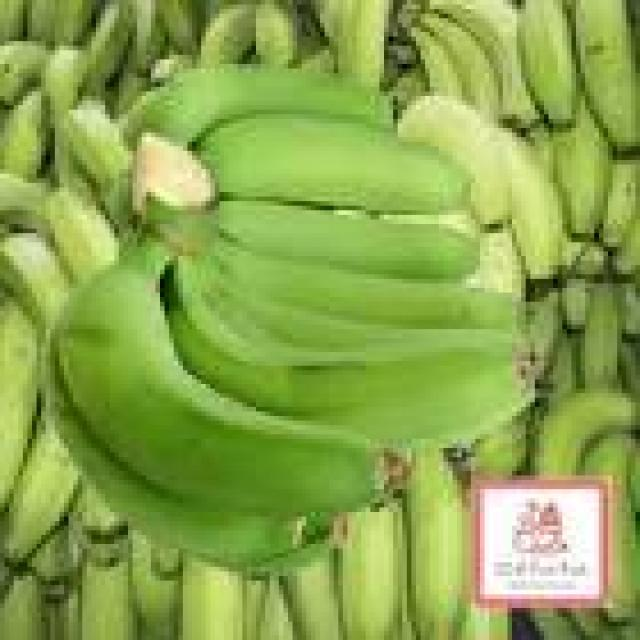banana: (51, 238, 388, 516), (170, 275, 525, 447), (51, 389, 329, 571), (202, 243, 521, 333), (197, 115, 470, 214), (124, 64, 393, 146), (215, 202, 479, 278), (398, 96, 511, 228), (430, 0, 539, 127), (215, 288, 429, 351), (407, 448, 466, 639), (0, 416, 77, 562), (581, 435, 639, 621), (572, 0, 639, 150), (499, 128, 566, 278), (531, 389, 635, 475), (0, 302, 41, 511), (339, 503, 402, 639), (421, 14, 498, 118), (517, 0, 580, 127), (554, 101, 612, 237), (46, 188, 118, 283), (0, 234, 68, 333), (60, 101, 132, 187), (78, 549, 137, 639), (133, 531, 182, 639), (179, 558, 242, 639), (334, 0, 393, 86), (284, 554, 342, 639), (83, 0, 132, 95), (0, 92, 50, 178), (467, 229, 525, 301), (581, 284, 621, 388), (28, 522, 82, 598), (197, 0, 255, 63), (69, 480, 127, 543), (599, 160, 639, 251), (412, 28, 461, 100), (471, 416, 530, 475), (42, 46, 86, 123), (0, 42, 50, 105), (526, 288, 562, 374), (256, 0, 301, 68), (540, 330, 580, 406), (0, 572, 45, 639), (124, 0, 164, 73), (394, 503, 415, 639), (558, 279, 612, 329), (256, 576, 297, 639), (0, 174, 45, 228), (156, 0, 201, 54), (51, 0, 100, 45), (458, 604, 511, 639), (389, 64, 425, 114), (563, 238, 607, 278), (78, 531, 127, 566), (531, 608, 585, 639), (46, 586, 77, 639), (243, 576, 269, 639), (613, 215, 639, 278), (110, 69, 146, 114), (311, 0, 347, 41), (28, 0, 59, 45), (526, 124, 553, 173), (151, 540, 182, 580), (151, 55, 191, 86), (0, 0, 27, 45), (618, 284, 639, 338), (298, 46, 333, 73), (622, 343, 639, 397), (631, 448, 639, 511)
